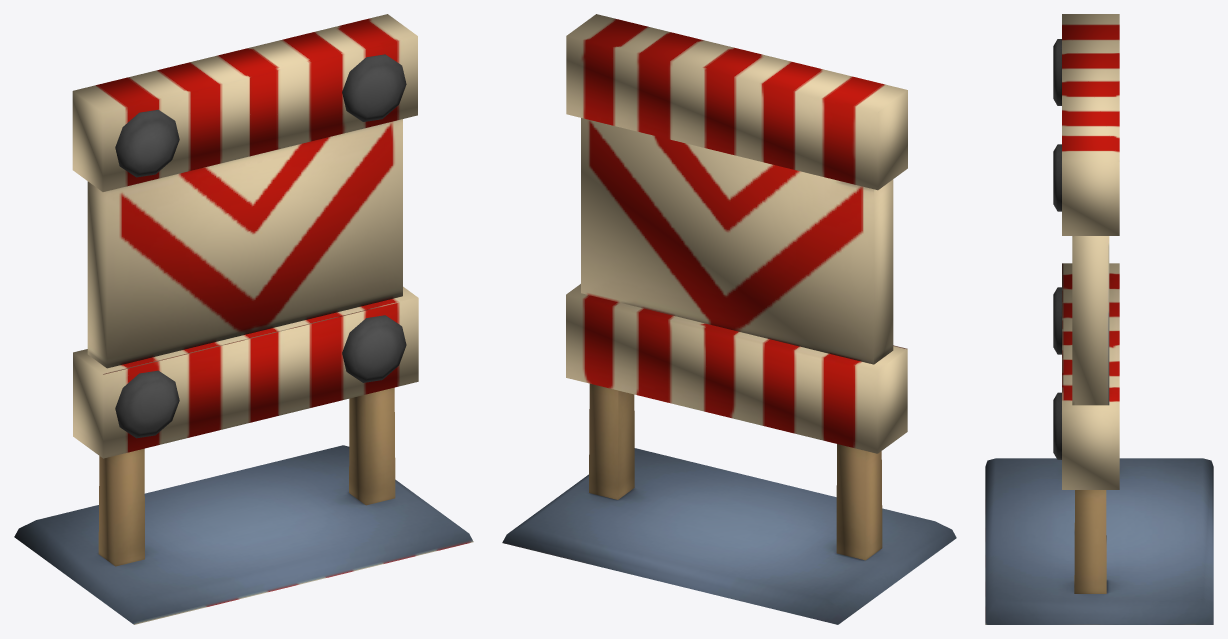
Rendered from fence_03.fbx.
3 renders of one model, left to right at view 1: azimuth 30°, elevation 25°; view 2: azimuth 150°, elevation 25°; view 3: azimuth 270°, elevation 25°, orthographic. The views are drawn at different scales.
Visible parts, largest first — view 1: fence_03; view 2: fence_03; view 3: fence_03.
Part boxes in pixels (bbox=[...]): fence_03: bbox=[14, 14, 473, 624]; fence_03: bbox=[502, 14, 956, 624]; fence_03: bbox=[985, 14, 1213, 624].
Bounding box in the file's own units: 266 × 359 × 163.
